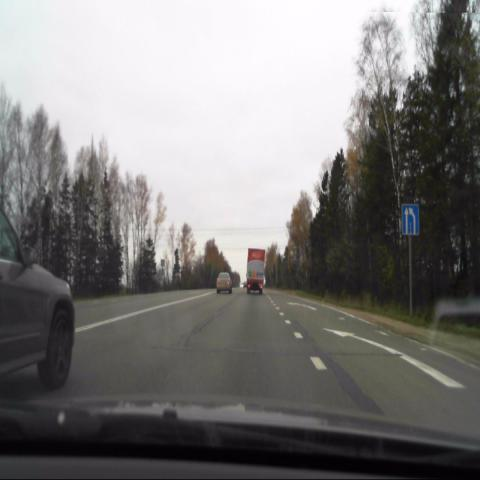5_15_5: (400, 203, 420, 235)
